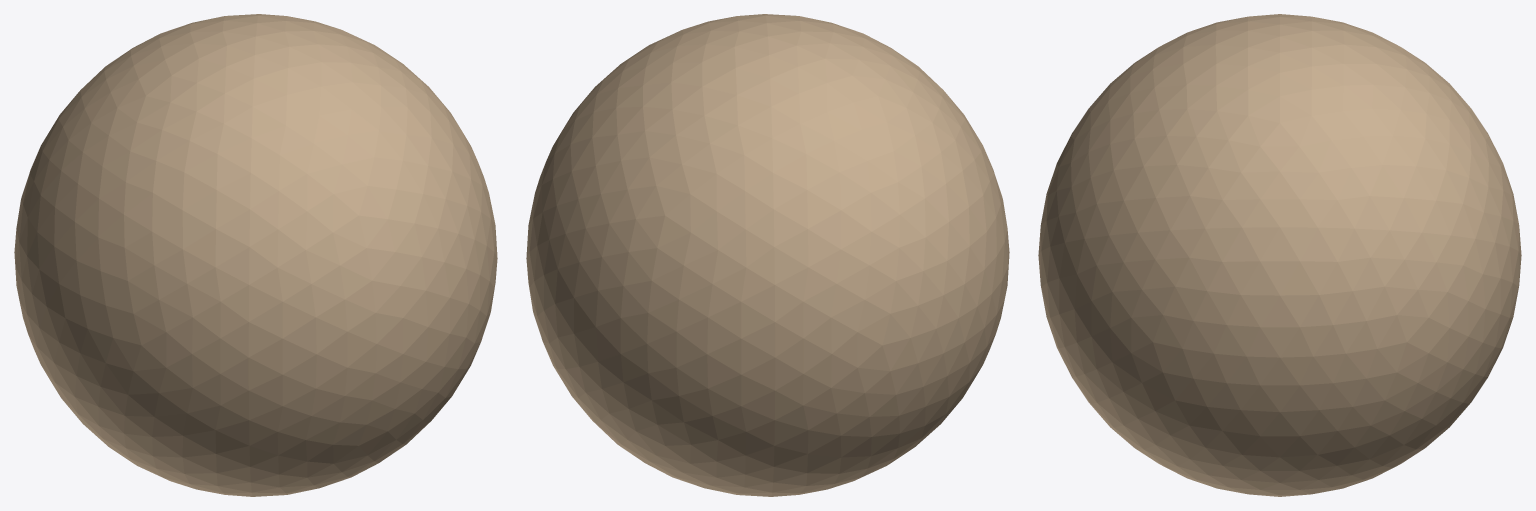
File: funko_model.glb
3 views of the same model, side by side, from view 1: azimuth 30°, elevation 25°; view 2: azimuth 150°, elevation 25°; view 3: azimuth 270°, elevation 25° (orthographic).
Visible parts, largest first — view 1: world; view 2: world; view 3: world.
Boxes of the visible parts, bbox=[...] form: world: bbox=[14, 14, 497, 496]; world: bbox=[526, 14, 1009, 496]; world: bbox=[1038, 14, 1521, 496].
Bounding box in the file's own units: 2 × 2 × 2.
